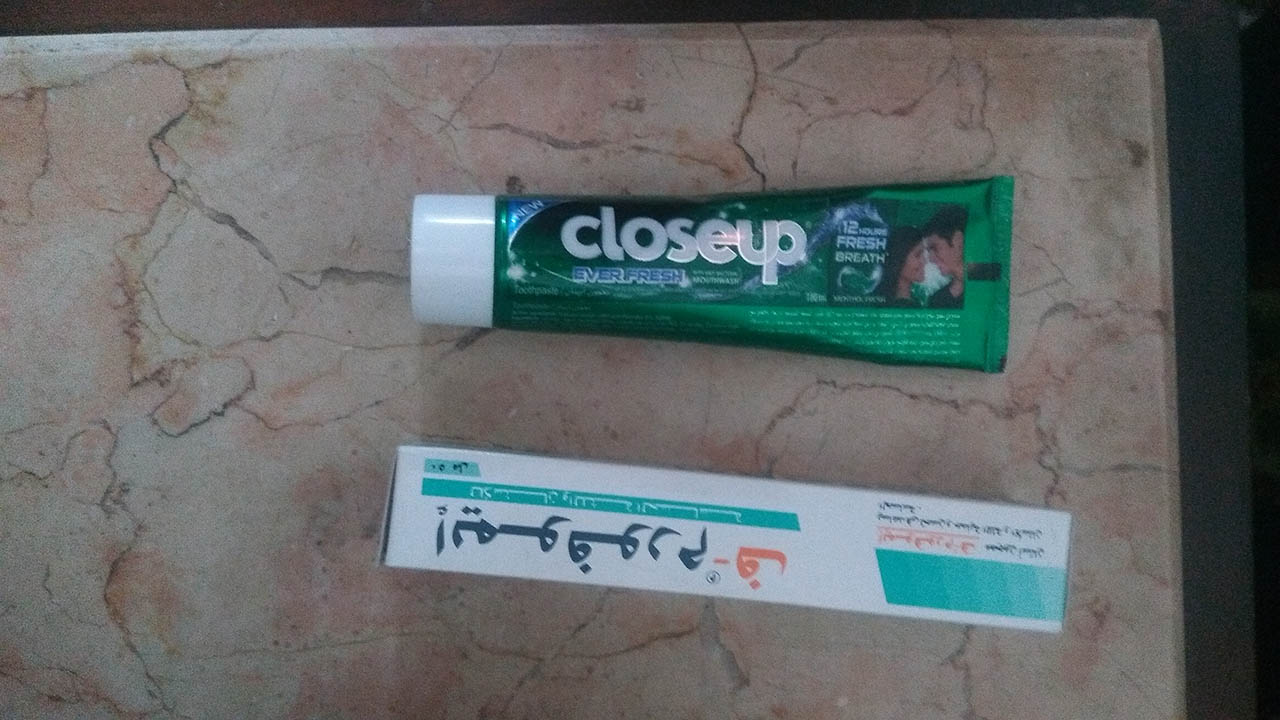Toothpaste-Closeup 3.04$: (375, 174, 1075, 387)
Toothpaste-F 1.5$: (352, 465, 1101, 627)
